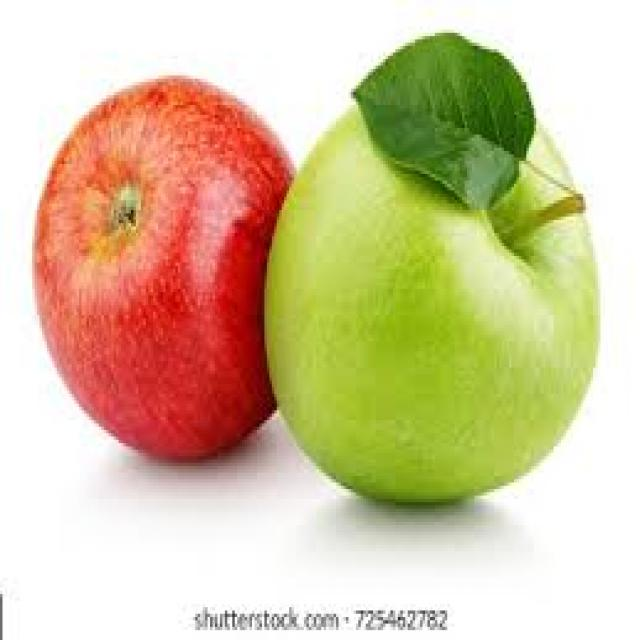apple: (262, 95, 603, 512), (27, 72, 257, 509)
